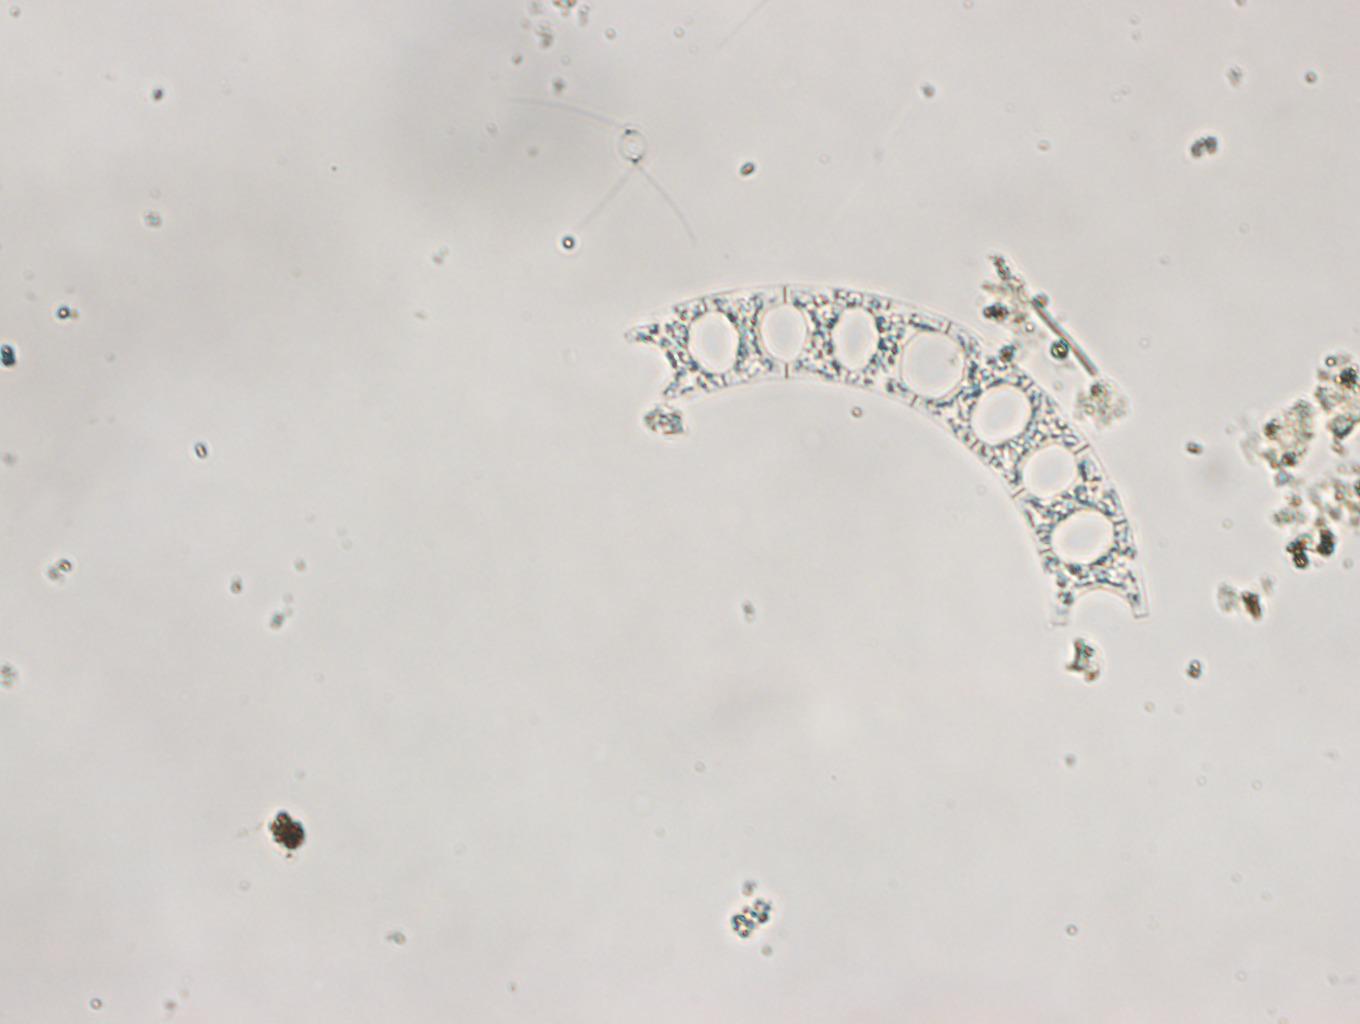chaetoceros: (519, 90, 704, 251)
eucampia: (622, 284, 1148, 630)
